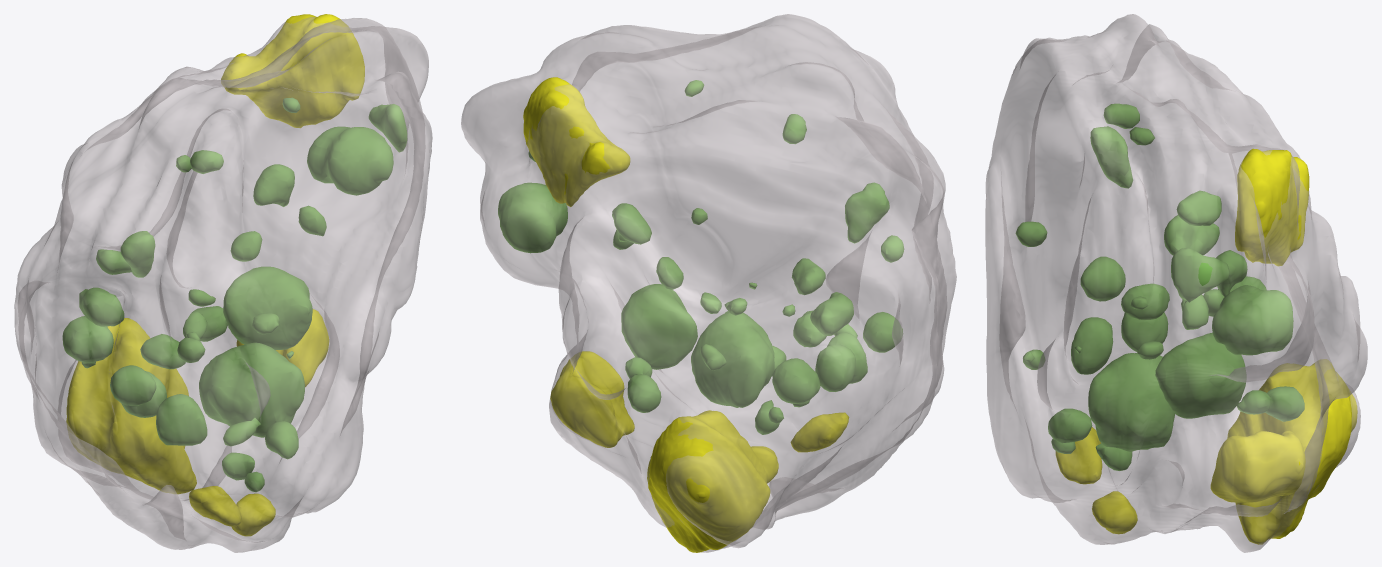
Rendered from GEMS.gltf.
3 views of the same model, side by side, from view 1: azimuth 30°, elevation 25°; view 2: azimuth 150°, elevation 25°; view 3: azimuth 270°, elevation 25° (orthographic). The views are drawn at different scales.
Parts seen in each view (by area): view 1: Surface_of_glass-mask-3.001, Surface_of_Fe.001, Surface_of_FeS.001; view 2: Surface_of_glass-mask-3.001, Surface_of_Fe.001, Surface_of_FeS.001; view 3: Surface_of_glass-mask-3.001, Surface_of_Fe.001, Surface_of_FeS.001.
Part boxes in pixels (<box>): Surface_of_glass-mask-3.001: <box>14,17,432,552</box>; Surface_of_Fe.001: <box>62,97,407,491</box>; Surface_of_FeS.001: <box>66,14,364,536</box>; Surface_of_glass-mask-3.001: <box>461,14,956,552</box>; Surface_of_Fe.001: <box>498,80,904,434</box>; Surface_of_FeS.001: <box>523,77,848,552</box>; Surface_of_glass-mask-3.001: <box>985,14,1367,552</box>; Surface_of_Fe.001: <box>1015,103,1304,470</box>; Surface_of_FeS.001: <box>1055,148,1357,544</box>.
Size of the model in its own units: 0.5744 by 0.5968 by 0.4106.
